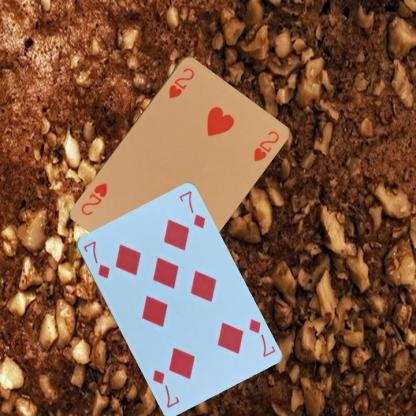2h: (166, 65, 196, 99)
7d: (80, 238, 111, 280), (245, 316, 276, 358)
